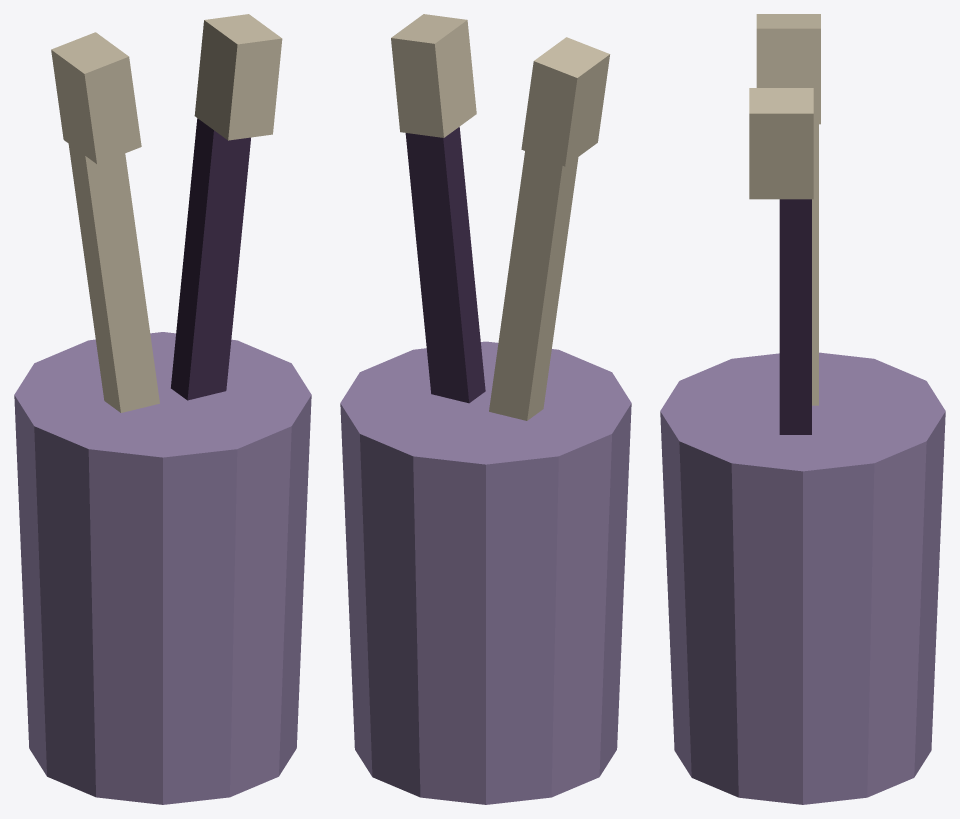
Rendered from toothbrush-holder-mint.glb.
3 renders of one model, left to right at view 1: azimuth 30°, elevation 25°; view 2: azimuth 150°, elevation 25°; view 3: azimuth 270°, elevation 25°, orthographic. The views are drawn at different scales.
Parts seen in each view (by area): view 1: accent-lilac, paper, accent-purple; view 2: accent-lilac, paper, accent-purple; view 3: accent-lilac, paper, accent-purple.
Boxes of the visible parts, x1,y1,x2,y2 form: accent-lilac: (14,332,311,804); paper: (51,14,282,412); accent-purple: (171,118,250,400); accent-lilac: (340,341,631,804); paper: (391,14,610,420); accent-purple: (405,127,485,403); accent-lilac: (660,352,945,804); paper: (749,14,820,405); accent-purple: (779,199,811,434).
Bounding box in the file's own units: 0.08 × 0.2148 × 0.08.
